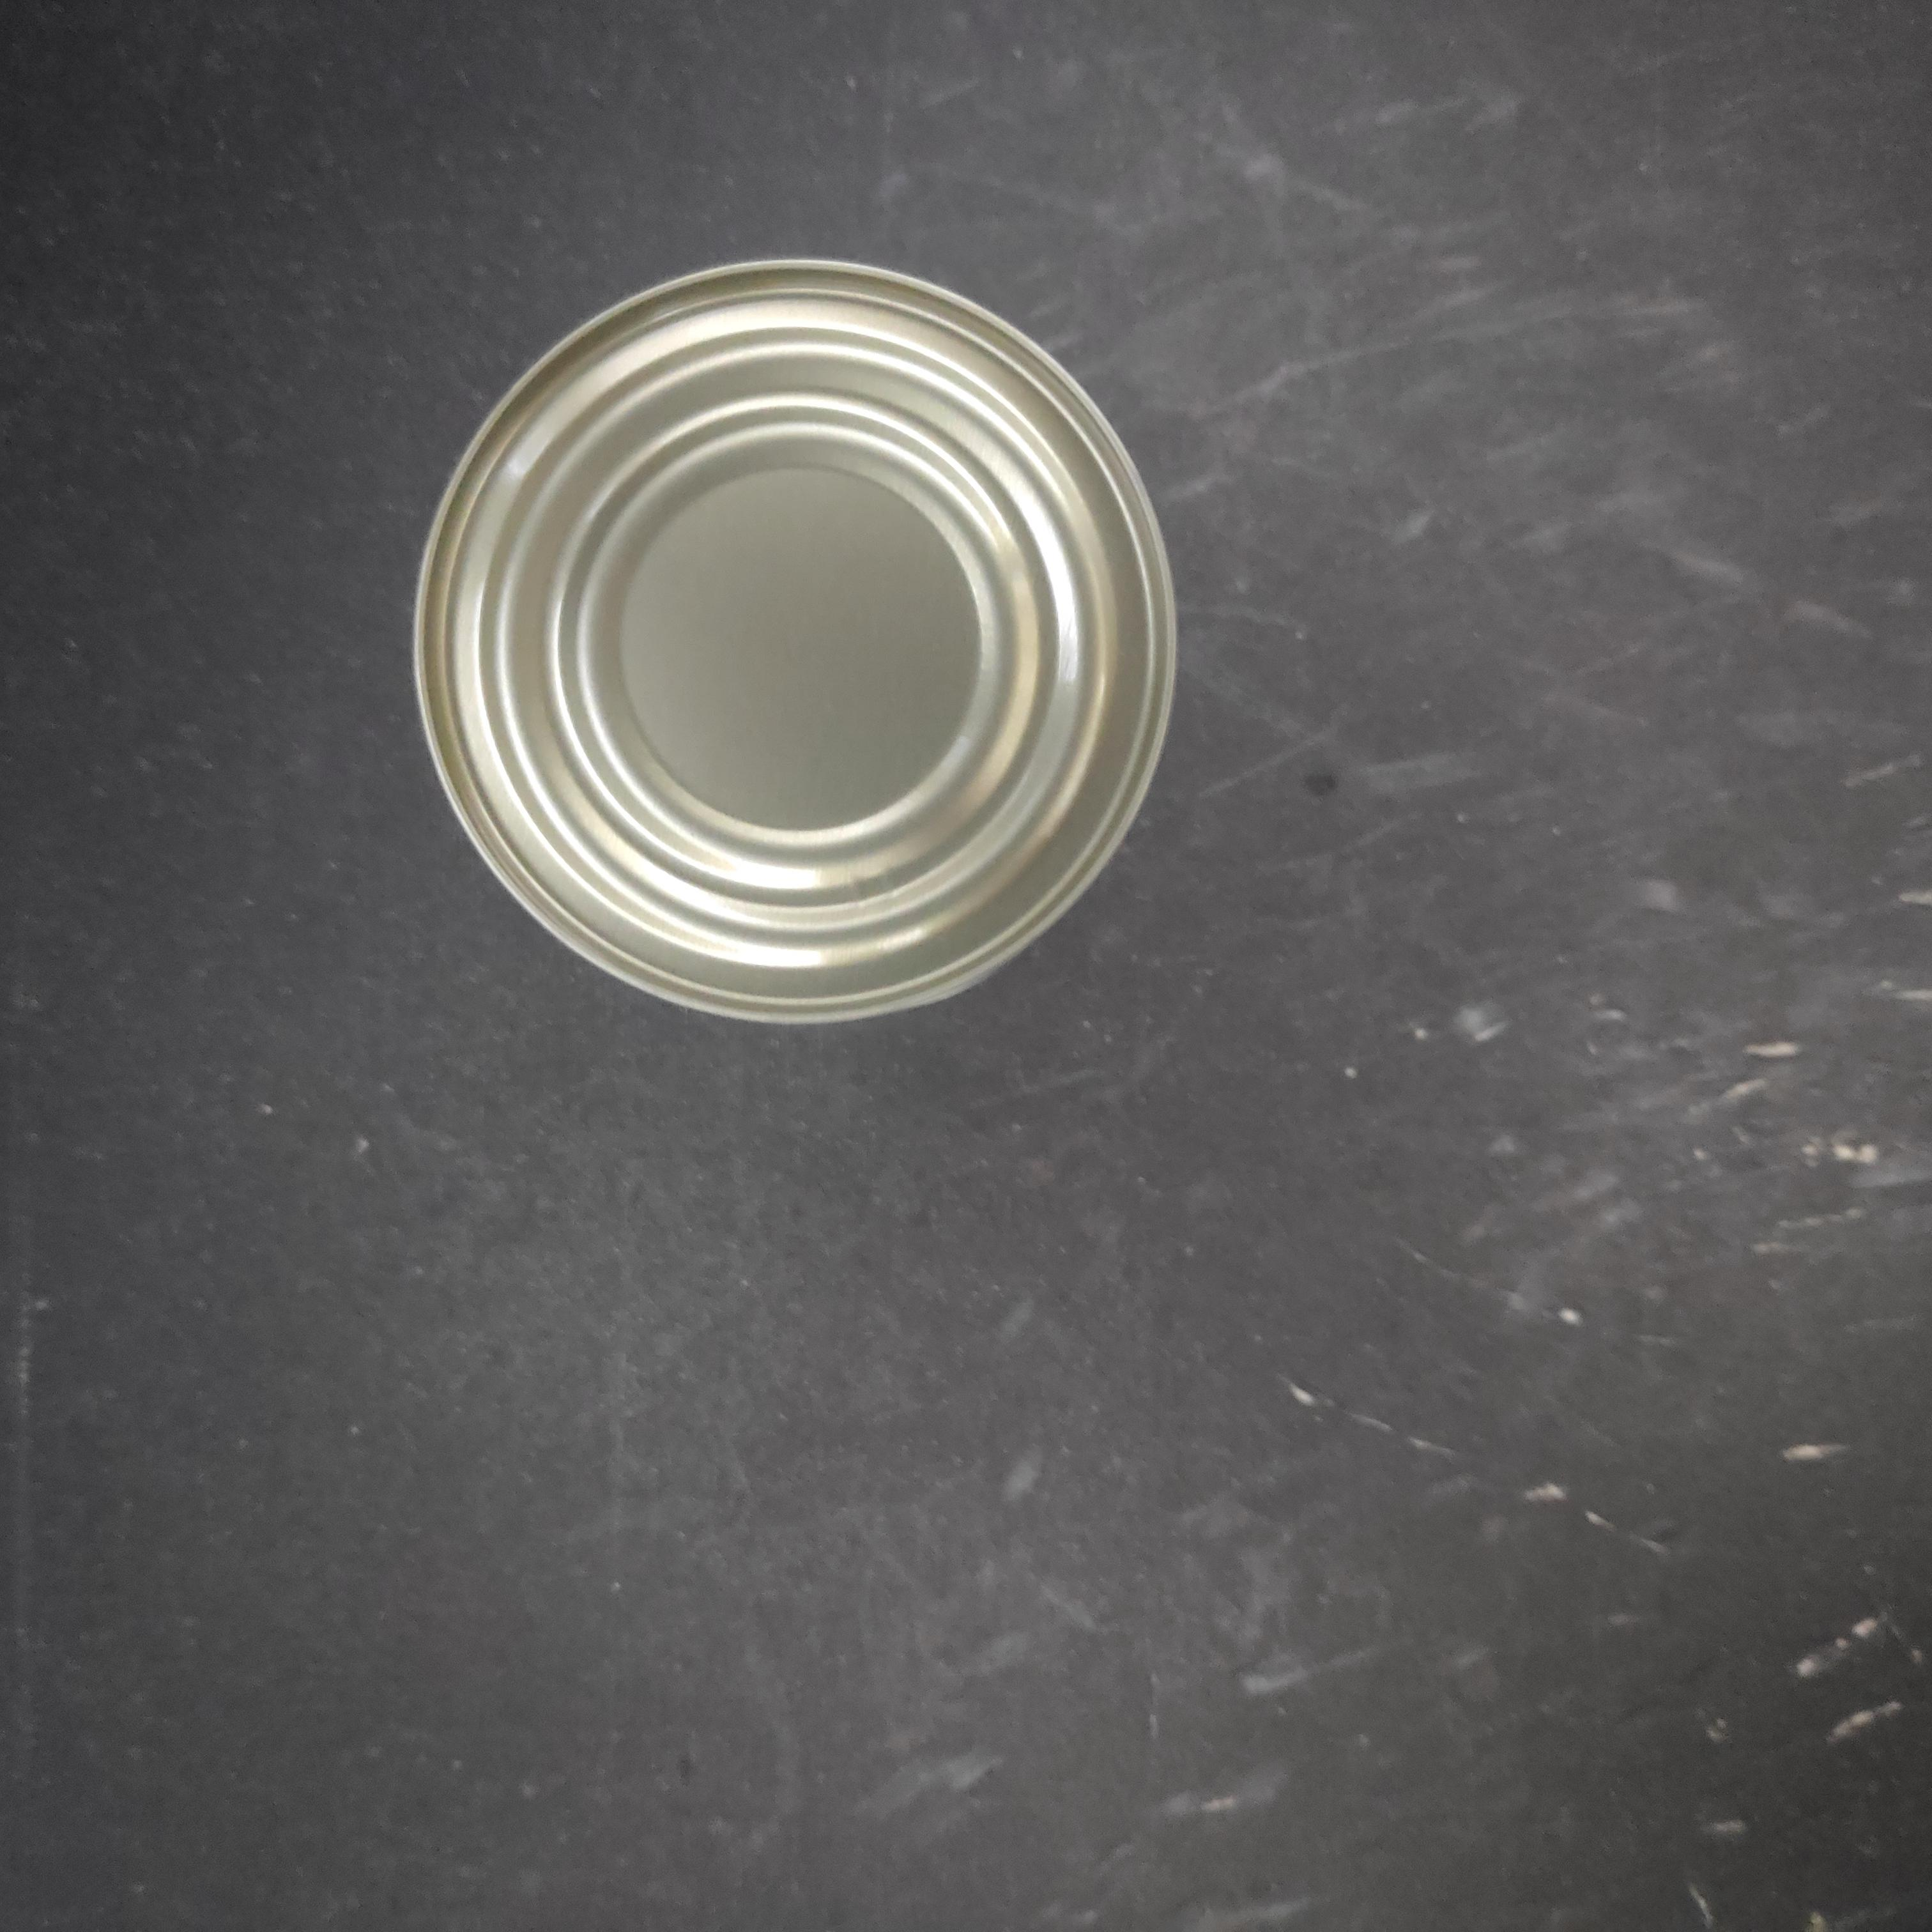No defect: (880, 387, 1687, 1195)
